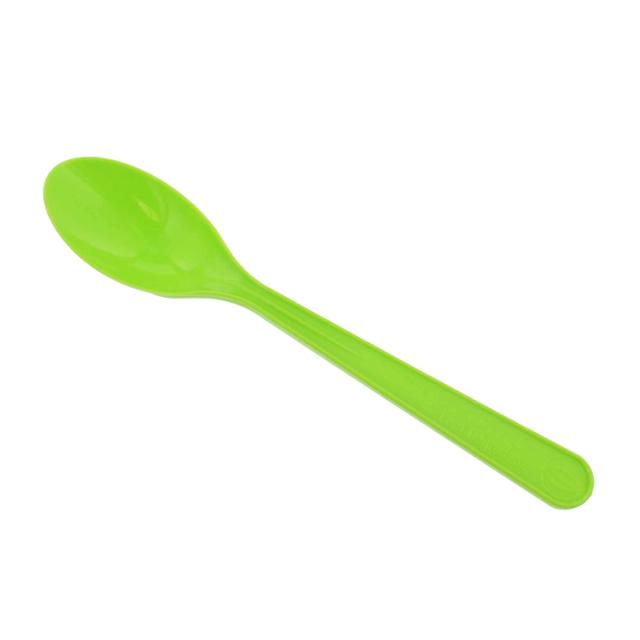spoon: (37, 148, 603, 511)
